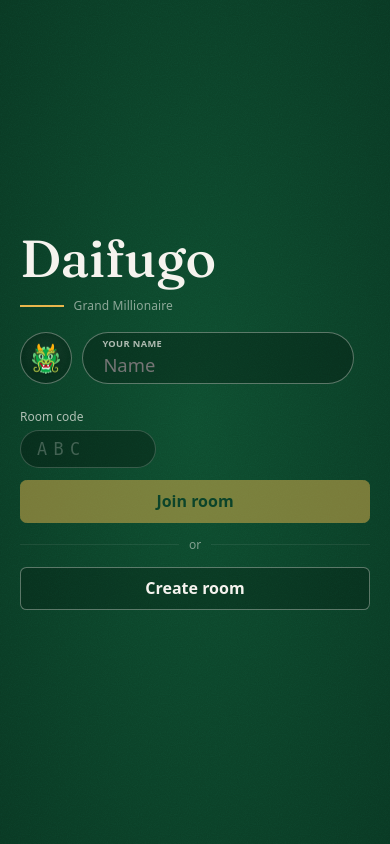
Lobby › keeps one open seat on a table that is already dealable
In the field labelled "Your name": (218, 358) [82,332,354,384], type "Will"
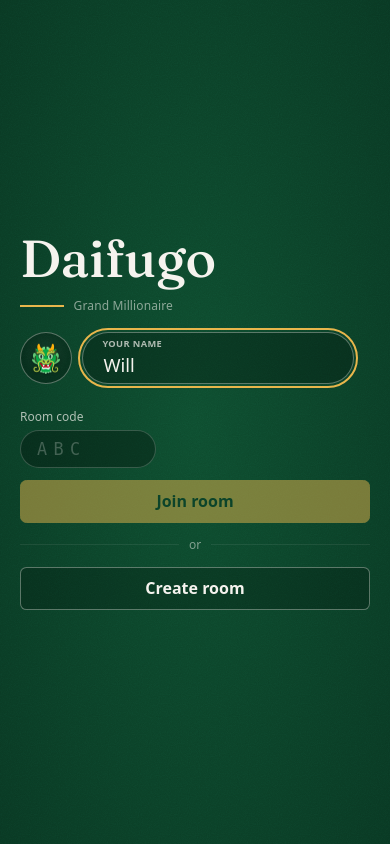
In the field labelled "Room code": (88, 449) [20,430,156,468], type "ABC234"
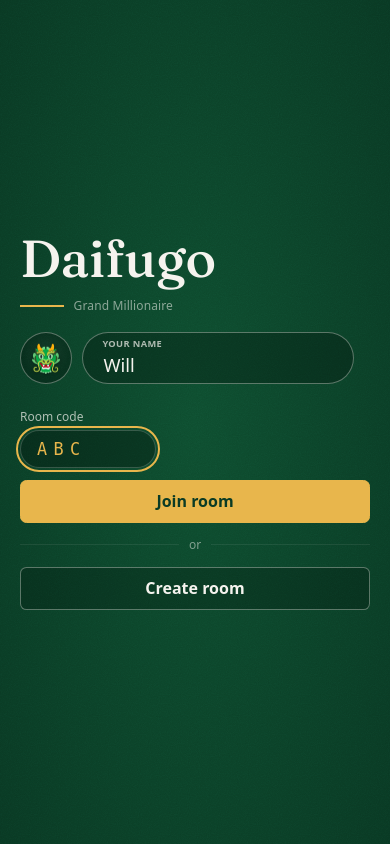
Click the button "Join room": (195, 501) [20,480,370,523]
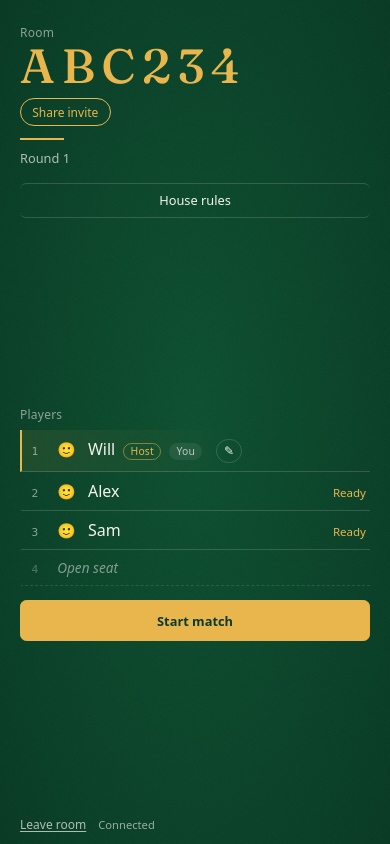
Expected: the text "Open seat" is shown once, [57,558,118,577]
